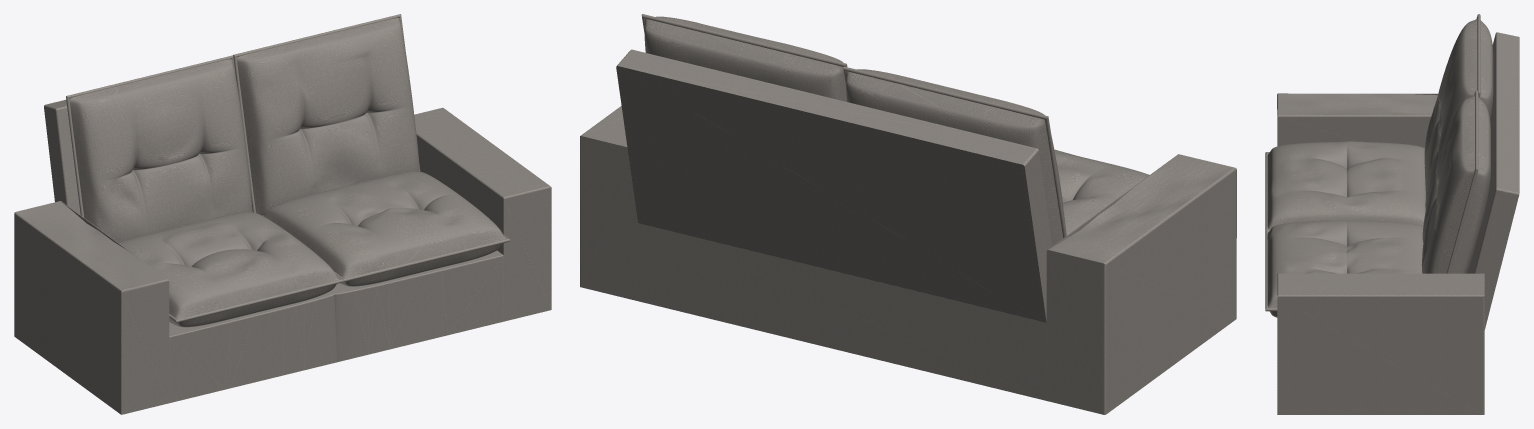
The model's file is Sofá2.glb.
3 renders of one model, left to right at view 1: azimuth 30°, elevation 25°; view 2: azimuth 150°, elevation 25°; view 3: azimuth 270°, elevation 25°, orthographic. The views are drawn at different scales.
Visible parts, largest first — view 1: Sofá\Sólido (4), Sofá\Sólido (4).001, Componente2\Sólido11, Componente1\Sólido, Sofá\Sólido (2), Sofá\Sólido, Componente2\Sólido11 (2), Sólido1\Sólido1; view 2: Sólido1\Sólido1, Componente2\Sólido11, Componente1\Sólido, Sofá\Sólido (4).001, Componente2\Sólido11 (2), Sofá\Sólido (4), Sofá\Sólido; view 3: Componente2\Sólido11 (2), Sofá\Sólido, Sofá\Sólido (4), Sofá\Sólido (2), Componente2\Sólido11, Sólido1\Sólido1, Sofá\Sólido (4).001.
Boxes of the visible parts, x1,y1,x2,y2 form: Sofá\Sólido (4): (233, 14, 420, 215); Sofá\Sólido (4).001: (66, 55, 252, 242); Componente2\Sólido11: (14, 201, 169, 414); Componente1\Sólido: (169, 250, 503, 403); Sofá\Sólido (2): (262, 171, 510, 286); Sofá\Sólido: (118, 212, 343, 327); Componente2\Sólido11 (2): (414, 107, 551, 321); Sólido1\Sólido1: (44, 99, 80, 214); Sólido1\Sólido1: (616, 49, 1052, 322); Componente2\Sólido11: (1046, 154, 1236, 414); Componente1\Sólido: (638, 223, 1046, 400); Sofá\Sólido (4).001: (843, 66, 1066, 245); Componente2\Sólido11 (2): (580, 106, 637, 300); Sofá\Sólido (4): (641, 14, 847, 101); Sofá\Sólido: (1054, 149, 1149, 235); Componente2\Sólido11 (2): (1277, 273, 1484, 414); Sofá\Sólido: (1265, 141, 1425, 230); Sofá\Sólido (4): (1421, 90, 1490, 273); Sofá\Sólido (2): (1265, 220, 1423, 317); Componente2\Sólido11: (1277, 93, 1438, 147); Sólido1\Sólido1: (1467, 32, 1519, 329); Sofá\Sólido (4).001: (1424, 14, 1493, 209).
Bounding box in the file's own units: 3.93 × 2.02 × 2.09.
Materials: 1 (1 with a texture image).
